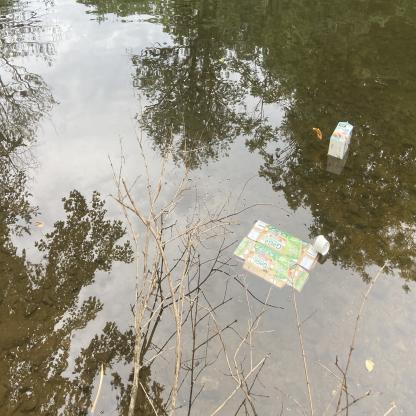trash: (231, 215, 321, 295), (325, 117, 356, 161), (310, 232, 334, 256)
